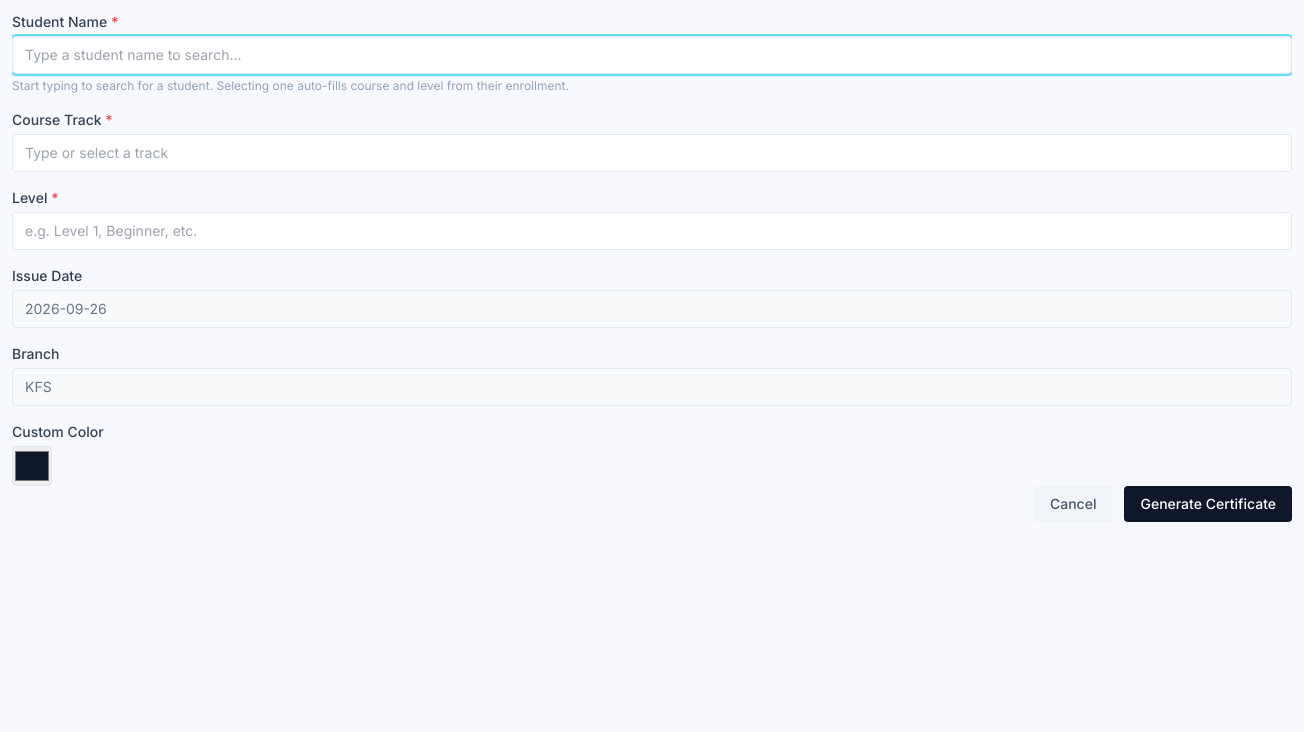
Scenario: CertificateForm student combobox (selection state) › re-opens the list and searches again when the user edits after selecting
Type "Ahmed" into the field labelled "Student Name *" at (652, 55), box [12,36,1292,74]
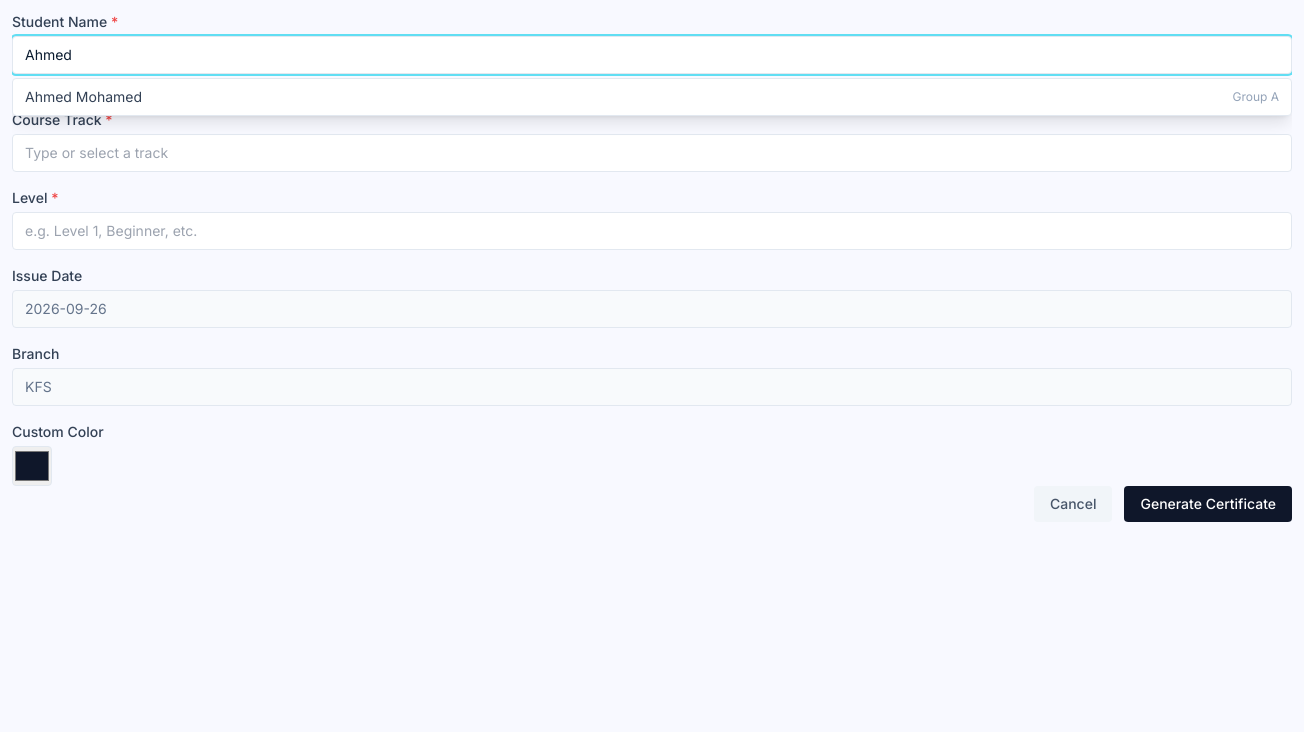
Expected: the list is shown, [12,78,1292,116]
Press the mouse on the list item "Ahmed Mohamed Group A" at (84, 96), box [25,88,1279,105]
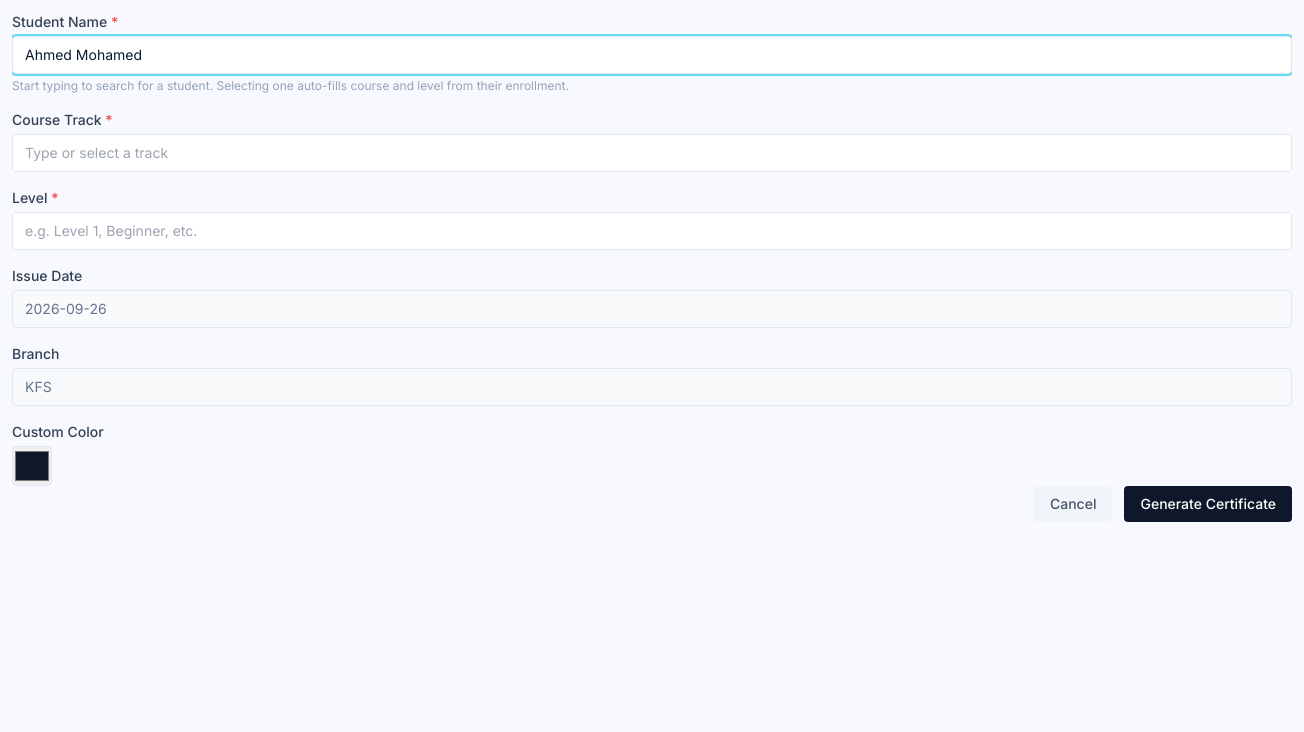
Expected: the list is gone
Replace the text in the field labelled "Student Name *" with "Mona" at (652, 55), box [12,36,1292,74]
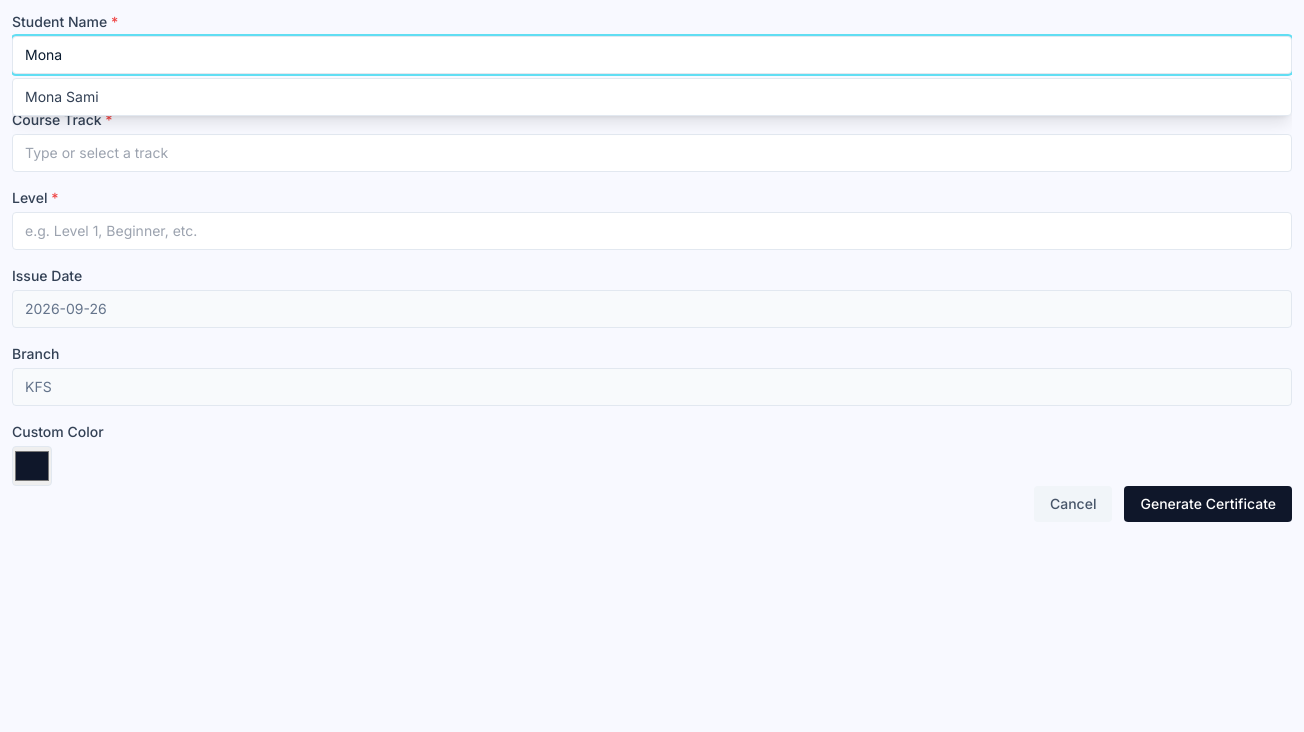
Expected: the list is shown, [12,78,1292,116]
Expected: the text "Mona Sami" is shown, [25,87,99,107]
